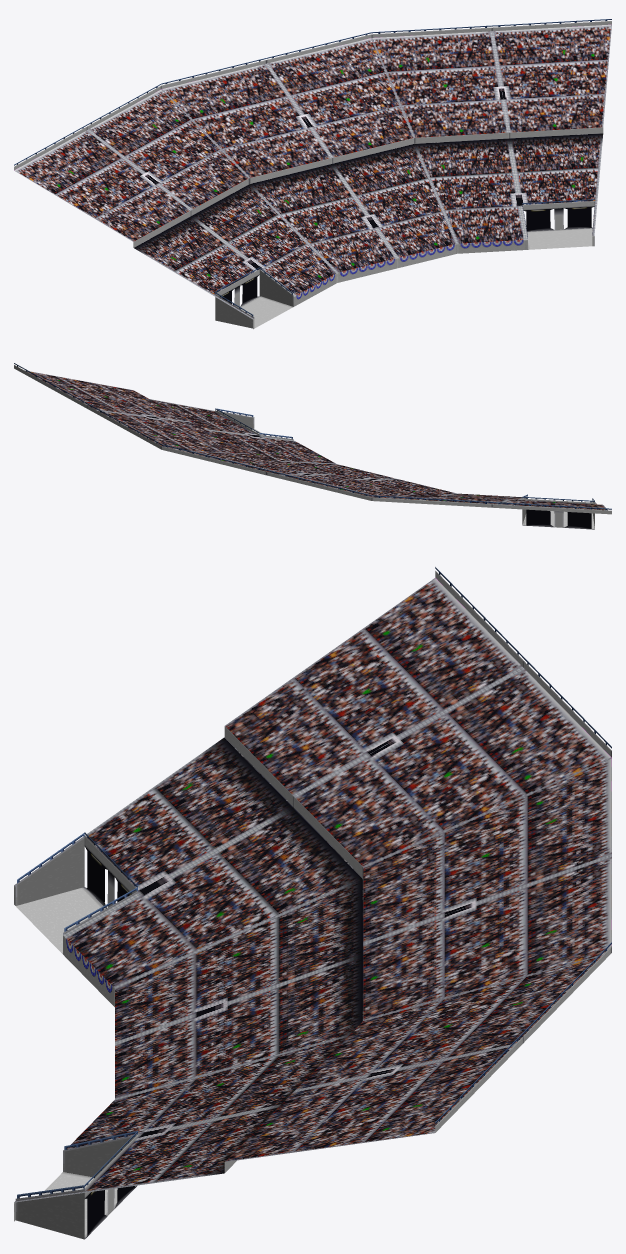
Rendered from part_01_off_01FCC.obj.
The picture shows the model from 3 angles, top to bottom: view 1: azimuth 30°, elevation 25°; view 2: azimuth 150°, elevation 25°; view 3: azimuth 270°, elevation 25°; orthographic projection. The views are drawn at different scales.
Bounding box in the file's own units: 148 × 28.2 × 67.25.
Materials: 7 (7 with a texture image).
